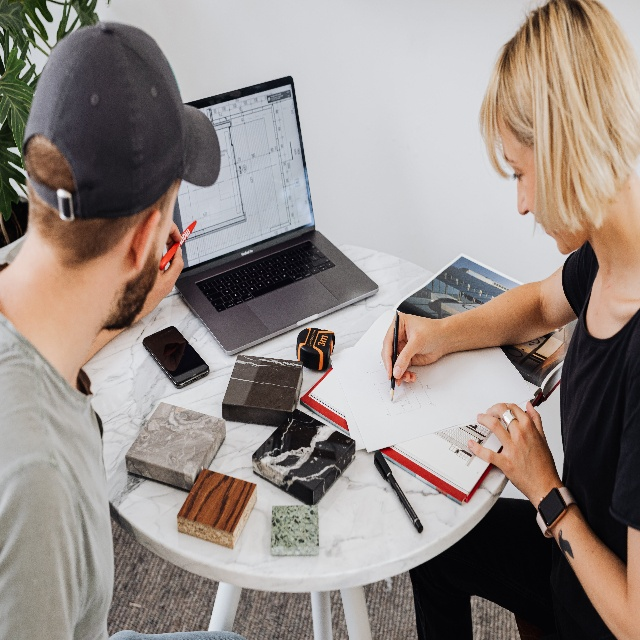Sin_guantes: (466, 398, 559, 502), (381, 307, 446, 387), (144, 223, 184, 322)
